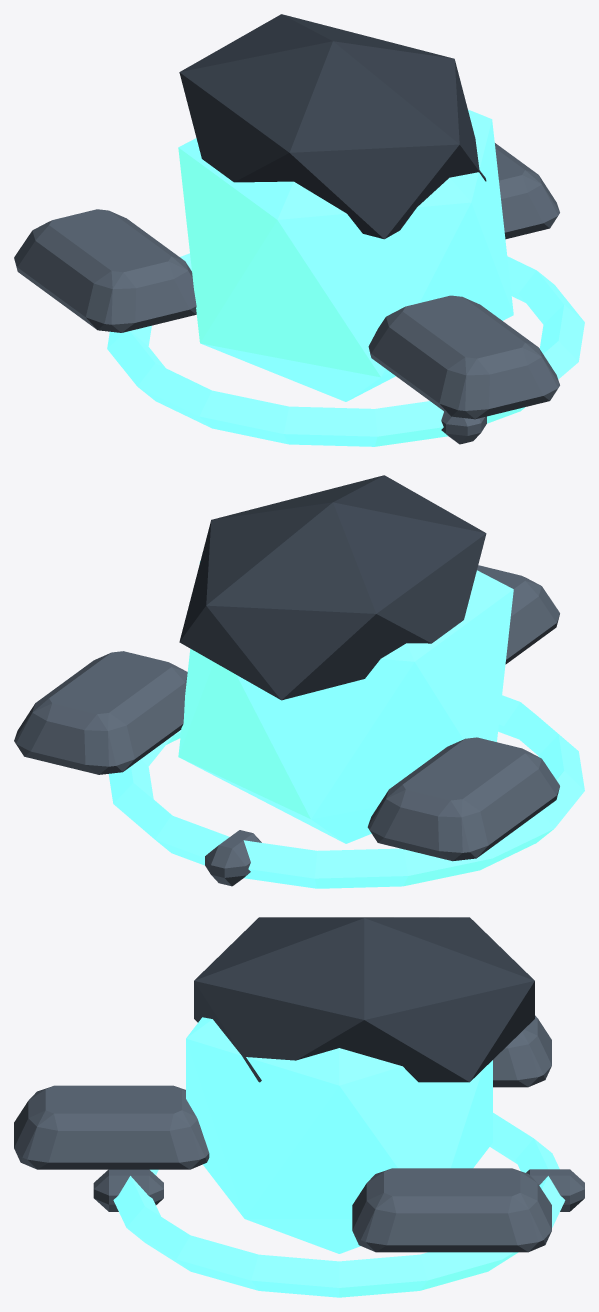
File: m_nanite.glb
3 renders of one model, top to bottom at view 1: azimuth 30°, elevation 25°; view 2: azimuth 150°, elevation 25°; view 3: azimuth 270°, elevation 25°, orthographic. The views are drawn at different scales.
Parts seen in each view (by area): view 1: Nanite swarm hub, Lift assembly; view 2: Nanite swarm hub, Lift assembly; view 3: Nanite swarm hub, Lift assembly.
Boxes of the visible parts, x1,y1,x2,y2 form: Nanite swarm hub: (14,14,559,419); Lift assembly: (107,253,584,446); Nanite swarm hub: (14,475,559,861); Lift assembly: (108,695,584,888); Nanite swarm hub: (14,917,551,1253); Lift assembly: (93,1113,584,1297).
Bounding box in the file's own units: 1.04 × 0.74 × 1.14.
